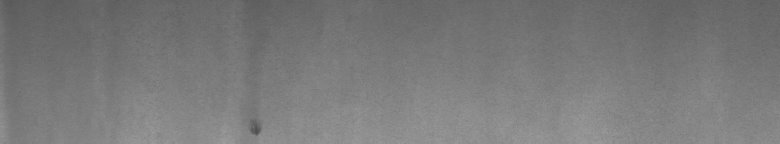fi: (248, 120, 265, 136)
